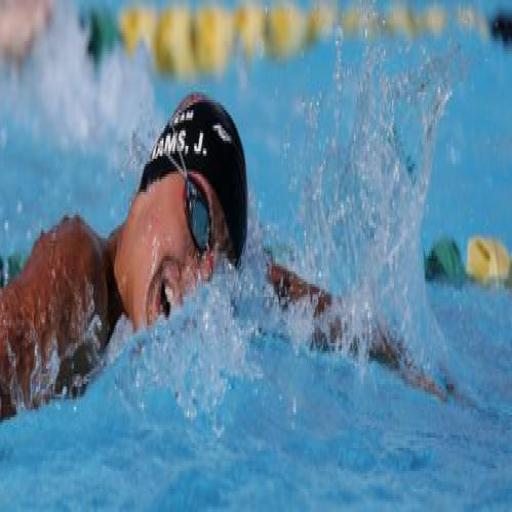swimming: (0, 90, 463, 432)
